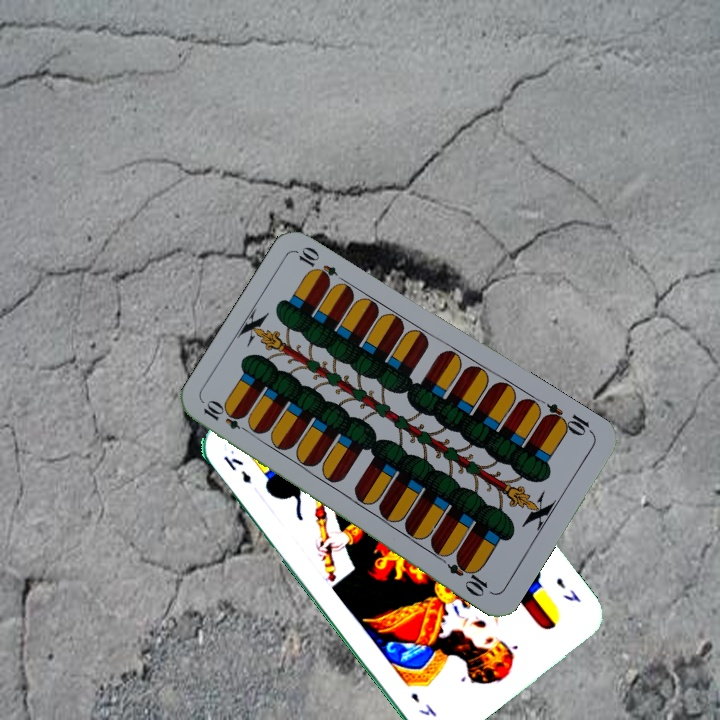E10: (539, 399, 596, 439), (199, 398, 255, 437)
EK: (219, 452, 254, 486), (552, 573, 583, 605)
